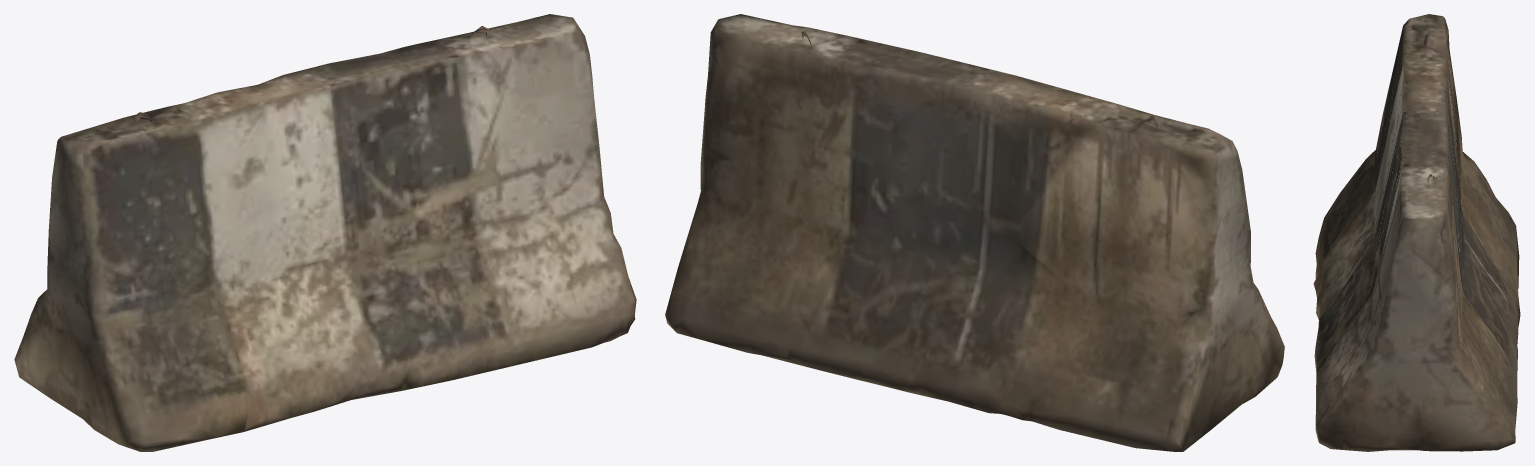
Rendered from roadBarrier_lo.glb.
3 views of the same model, side by side, from view 1: azimuth 30°, elevation 25°; view 2: azimuth 150°, elevation 25°; view 3: azimuth 270°, elevation 25° (orthographic). The views are drawn at different scales.
Visible parts, largest first — view 1: concrete_road_barrier; view 2: concrete_road_barrier; view 3: concrete_road_barrier.
Boxes of the visible parts, x1=… form: concrete_road_barrier: x1=14, y1=14, x2=636, y2=451; concrete_road_barrier: x1=665, y1=14, x2=1284, y2=451; concrete_road_barrier: x1=1313, y1=14, x2=1520, y2=451.
Size of the model in its own units: 1.54 by 0.8304 by 0.6371.
1 material, 1 textured.
